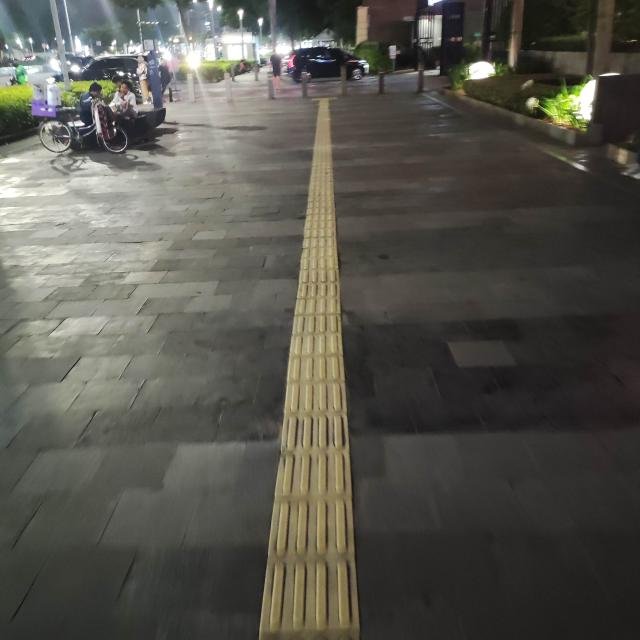lurus: (267, 118, 362, 640)
